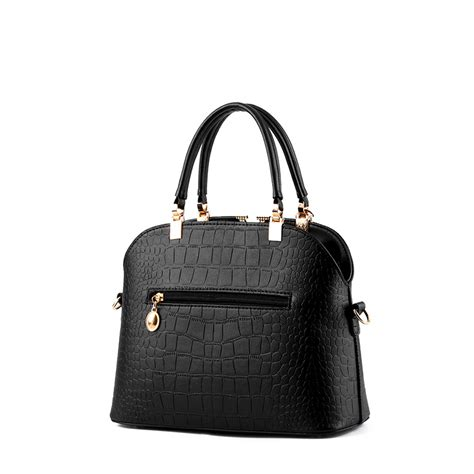cuero: (109, 100, 371, 441)
